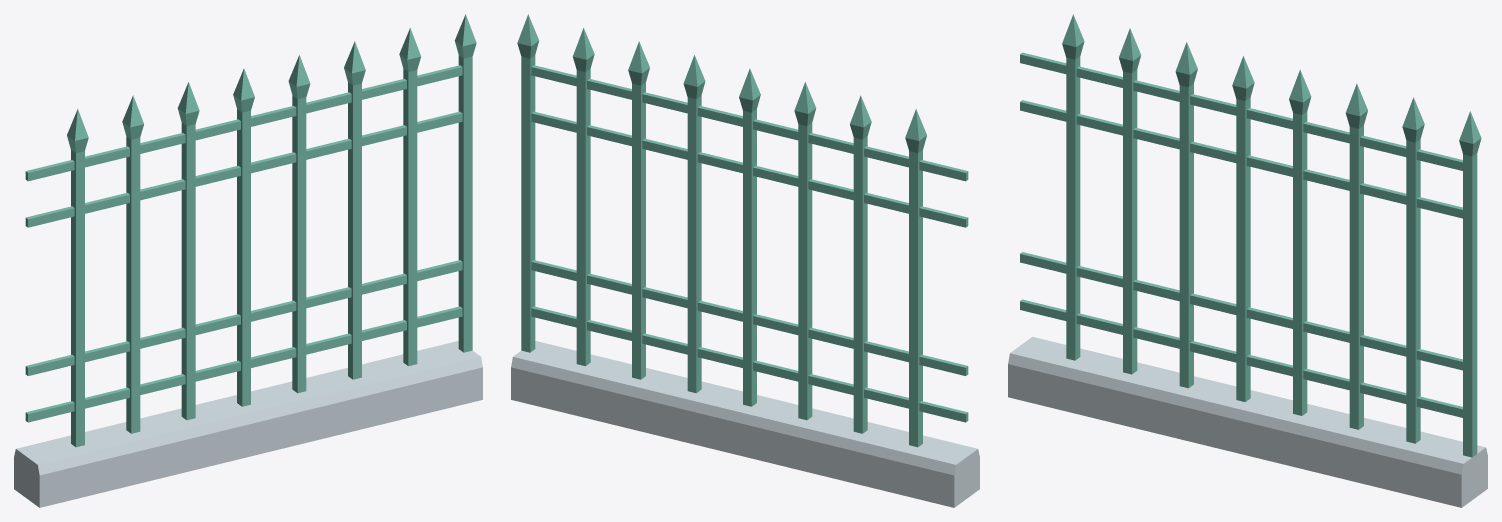
File: fenceIronBorder.fbx
The picture shows the model from 3 angles, left to right: view 1: azimuth 30°, elevation 25°; view 2: azimuth 150°, elevation 25°; view 3: azimuth 330°, elevation 25°; orthographic projection. The views are drawn at different scales.
Visible parts, largest first — view 1: fenceIronBorder, bar 12, bar 19, bar 22, bar 20, bar 14, bar 18, bar 23, bar 21, bar 13, bar 15, bar 17 (+1 smaller); view 2: fenceIronBorder, bar 12, bar 19, bar 22, bar 20, bar 14, bar 18, bar 23, bar 21, bar 13, bar 15, bar 17 (+1 smaller); view 3: fenceIronBorder, bar 14, bar 23, bar 20, bar 12, bar 21, bar 18, bar 19, bar 22, bar 16, bar 13, bar 17 (+1 smaller).
Boxes of the visible parts, bbox=[...] form: fenceIronBorder: bbox=[14, 341, 482, 507]; bar 12: bbox=[399, 28, 421, 366]; bar 19: bbox=[122, 95, 143, 433]; bar 22: bbox=[288, 55, 310, 393]; bar 20: bbox=[177, 82, 199, 420]; bar 14: bbox=[454, 14, 476, 352]; bar 18: bbox=[67, 109, 88, 447]; bar 23: bbox=[344, 41, 365, 379]; bar 21: bbox=[233, 68, 254, 406]; bar 13: bbox=[25, 65, 462, 181]; bar 15: bbox=[25, 260, 462, 375]; bar 17: bbox=[25, 111, 462, 227]; fenceIronBorder: bbox=[511, 341, 979, 507]; bar 12: bbox=[572, 28, 594, 366]; bar 19: bbox=[850, 95, 871, 433]; bar 22: bbox=[683, 55, 705, 393]; bar 20: bbox=[794, 82, 816, 420]; bar 14: bbox=[517, 14, 539, 352]; bar 18: bbox=[905, 109, 926, 447]; bar 23: bbox=[628, 41, 649, 379]; bar 21: bbox=[739, 68, 760, 406]; bar 13: bbox=[531, 65, 968, 181]; bar 15: bbox=[531, 260, 968, 375]; bar 17: bbox=[531, 111, 968, 227]; fenceIronBorder: bbox=[1008, 337, 1487, 507]; bar 14: bbox=[1459, 111, 1481, 457]; bar 23: bbox=[1345, 83, 1367, 429]; bar 20: bbox=[1175, 42, 1197, 388]; bar 12: bbox=[1402, 97, 1424, 443]; bar 21: bbox=[1232, 56, 1254, 401]; bar 18: bbox=[1062, 14, 1084, 360]; bar 19: bbox=[1119, 28, 1140, 374]; bar 22: bbox=[1289, 69, 1311, 415]; bar 16: bbox=[1020, 299, 1462, 417]; bar 13: bbox=[1020, 52, 1462, 170]; bar 17: bbox=[1020, 100, 1462, 218].
Bounding box in the file's own units: 10.06 × 8.14 × 1.
